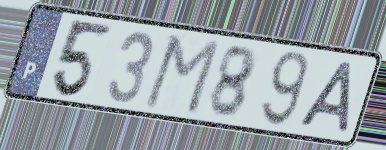3: (106, 28, 155, 104)
5: (49, 16, 117, 99)
8: (206, 43, 261, 120)
9: (257, 49, 311, 129)
A: (294, 58, 357, 137)
M: (140, 32, 224, 118)
